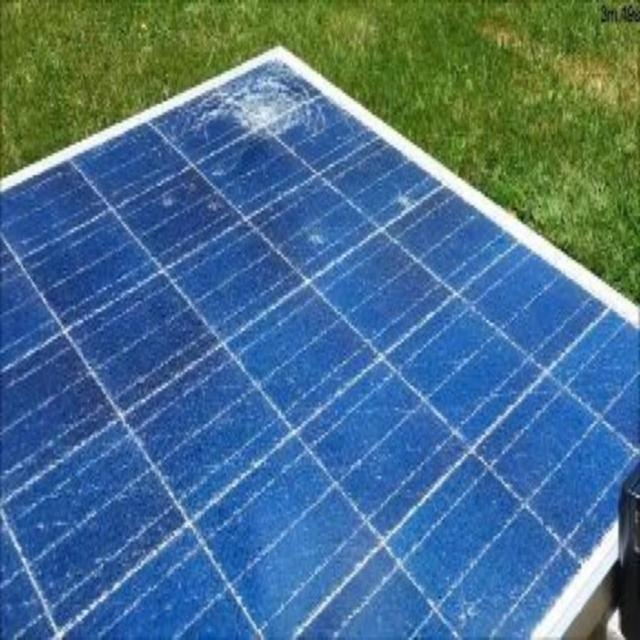cracked: (56, 63, 602, 640)
